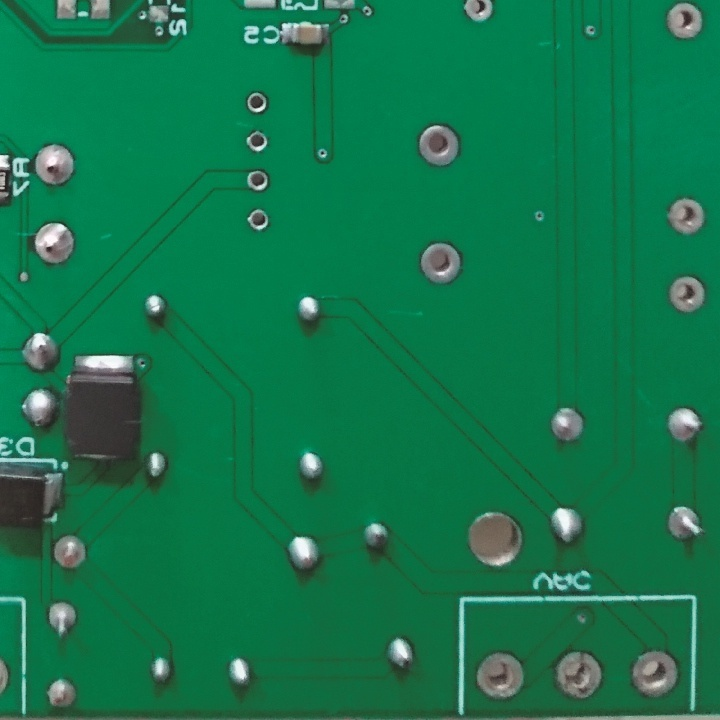F: (630, 644, 681, 699), (413, 120, 464, 172), (553, 651, 607, 699), (31, 141, 83, 188), (30, 220, 78, 269), (475, 652, 526, 698), (660, 2, 707, 49), (418, 238, 463, 286), (664, 401, 709, 447), (664, 193, 707, 239), (664, 272, 707, 312), (548, 402, 586, 447), (665, 502, 707, 540), (48, 535, 90, 572), (44, 600, 79, 637), (41, 678, 80, 709), (462, 1, 495, 28), (241, 86, 269, 114), (244, 128, 275, 153), (246, 168, 272, 195), (247, 206, 270, 234)
